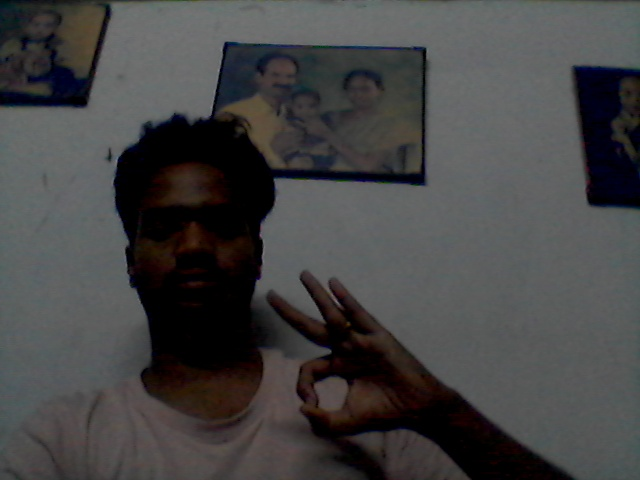Nice: (260, 262, 483, 466)
Not Ok: (260, 266, 475, 446)
